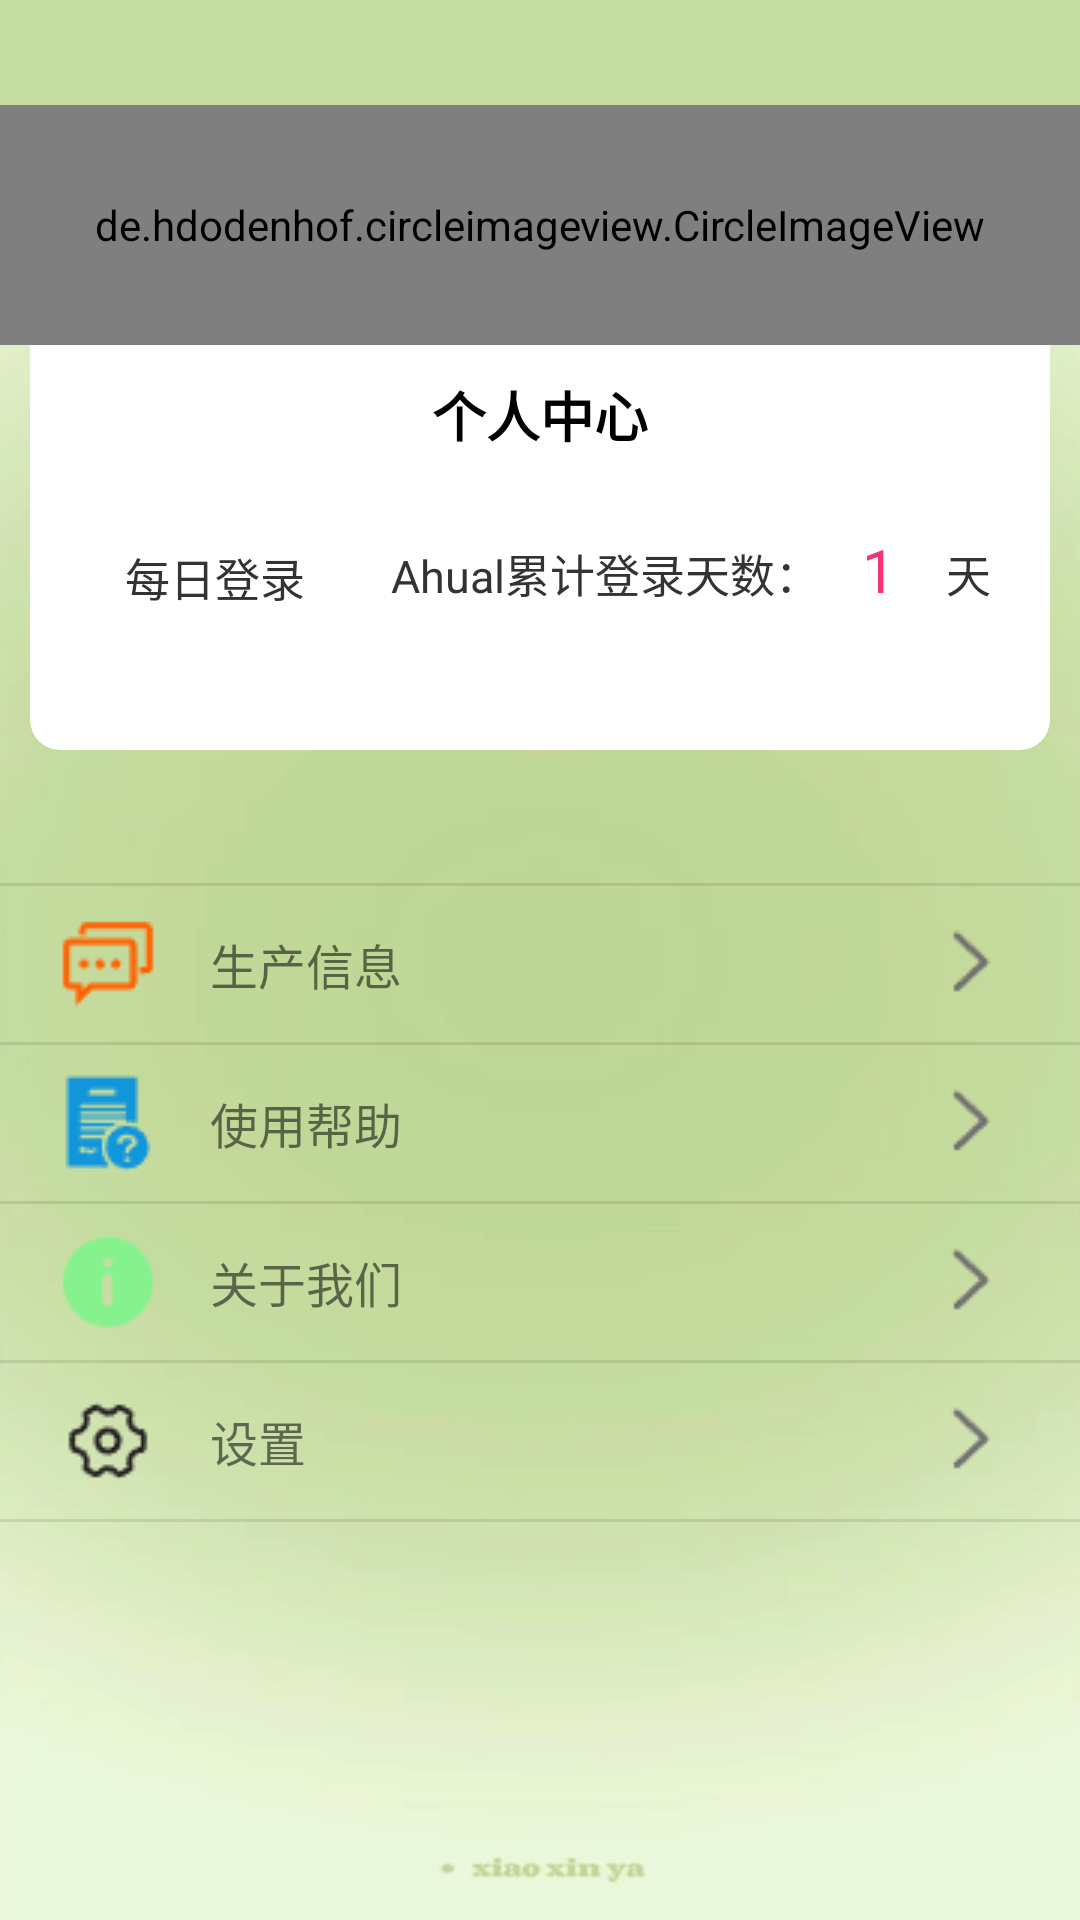

Where to tap for icons on this 1080px×1920px app screen, as [x,y]:
about us: [108,1281]
message center: [108,963]
right: [971,961], [971,1120], [971,1279], [971,1438]
set: [108,1441]
use help: [108,1123]
